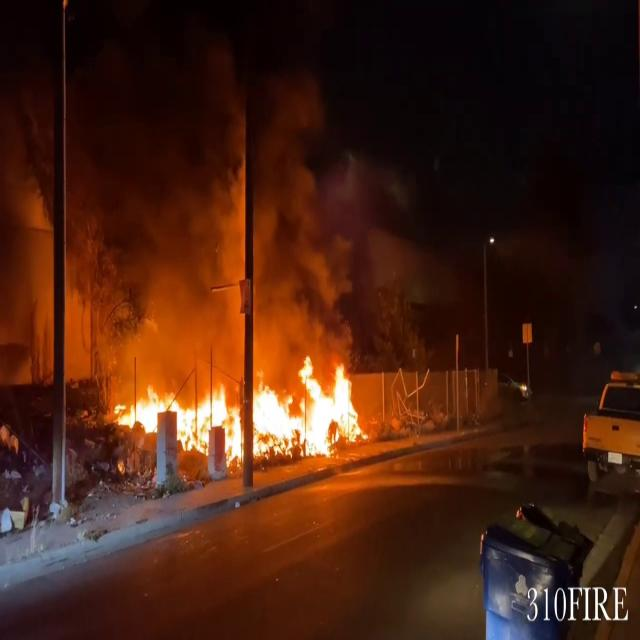Fire: (110, 352, 370, 466)
Smoke: (0, 16, 368, 362)
